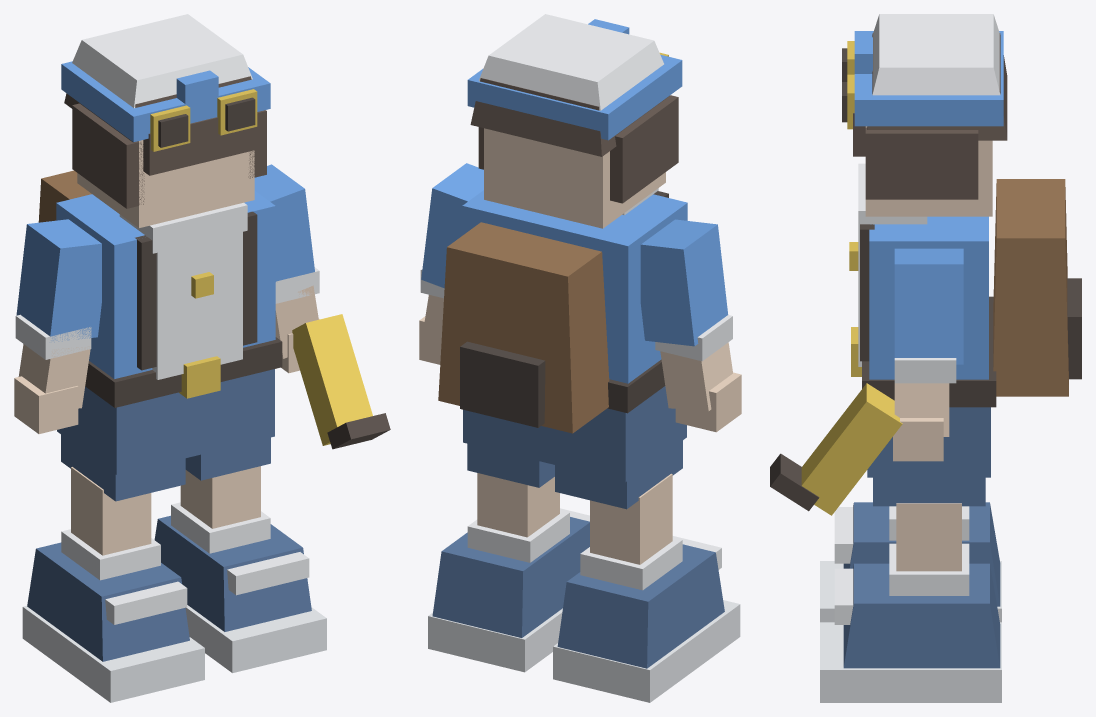
The model's file is hero-ray.glb.
3 renders of one model, left to right at view 1: azimuth 30°, elevation 25°; view 2: azimuth 150°, elevation 25°; view 3: azimuth 270°, elevation 25°, orthographic. The views are drawn at different scales.
Visible parts, largest first — view 1: hero-ray; view 2: hero-ray; view 3: hero-ray.
Part boxes in pixels (box(x1,y1,x2,y2)): hero-ray: box(14, 14, 390, 702); hero-ray: box(419, 14, 741, 702); hero-ray: box(770, 14, 1081, 702).
Size of the model in its own units: 0.96 by 1.85 by 0.8576.
